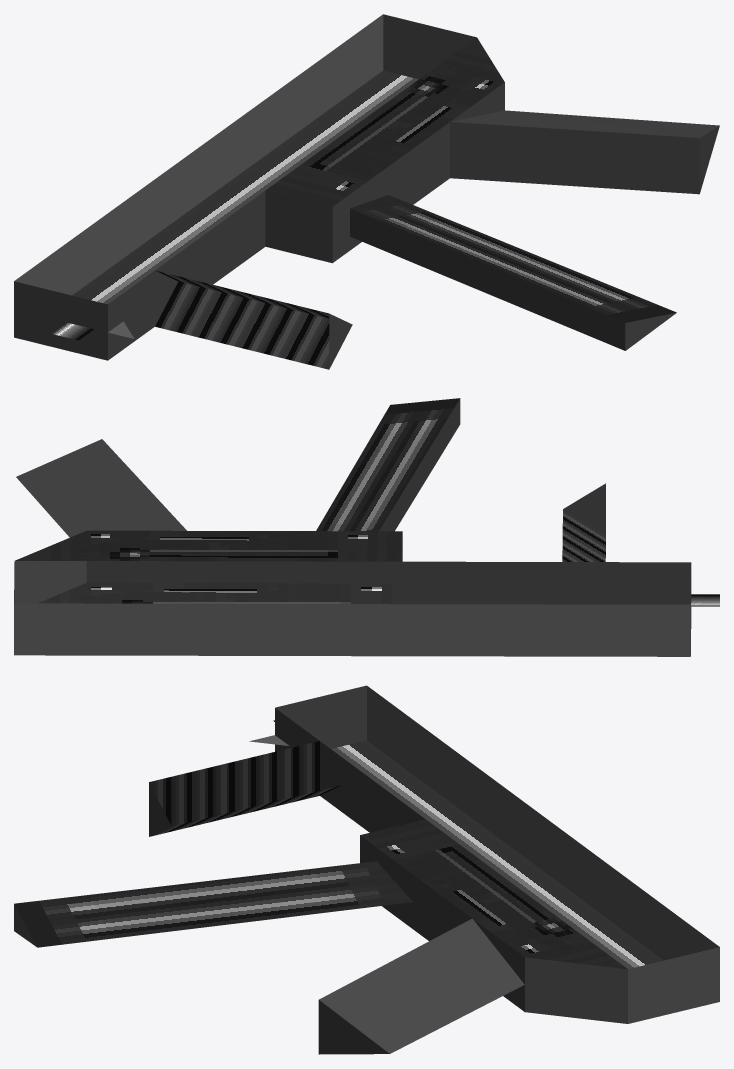
File: primary_052.glb
3 views of the same model, one above another, from view 1: azimuth 30°, elevation 25°; view 2: azimuth 150°, elevation 25°; view 3: azimuth 270°, elevation 25° (orthographic). The views are drawn at different scales.
Visible parts, largest first — view 1: Object; view 2: Object; view 3: Object.
Part boxes in pixels (left/top/right/bottom): Object: left=14, top=14, right=719, bottom=369; Object: left=14, top=398, right=719, bottom=656; Object: left=14, top=685, right=719, bottom=1054.
Size of the model in its own units: 0.5432 by 0.0407 by 0.4751.
Materials: 14 (14 with a texture image).
